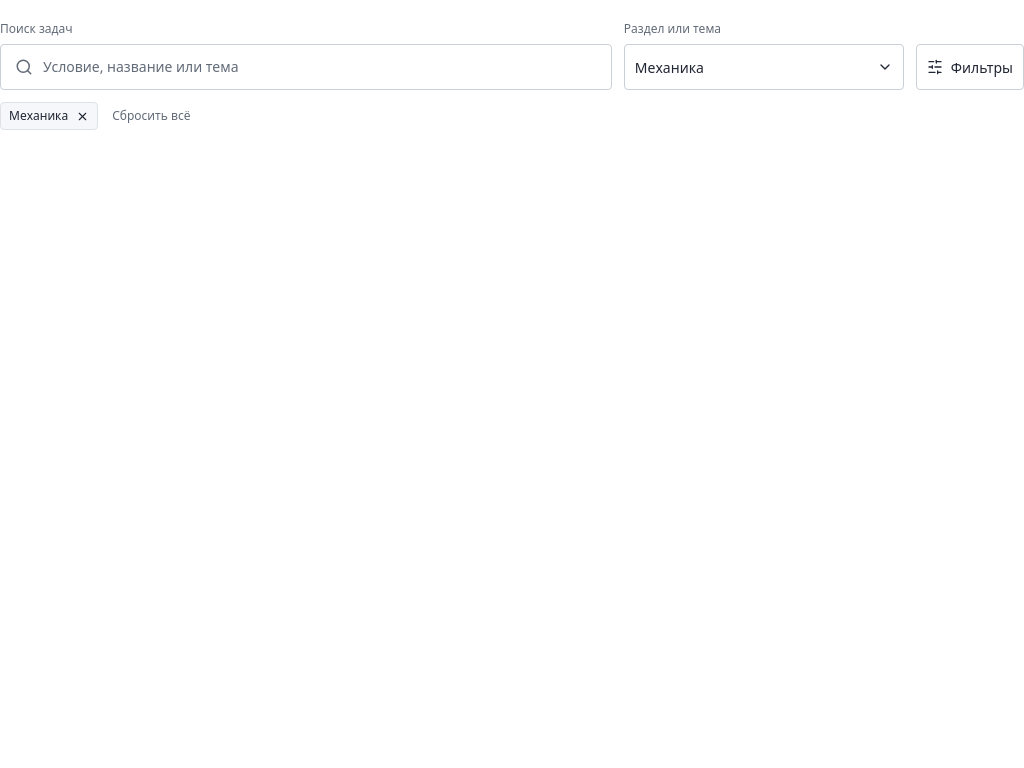
Test: applies extra filters together, while closing discards an uncommitted draft
Click the button "Фильтры" at (970, 67), box [916, 44, 1023, 90]
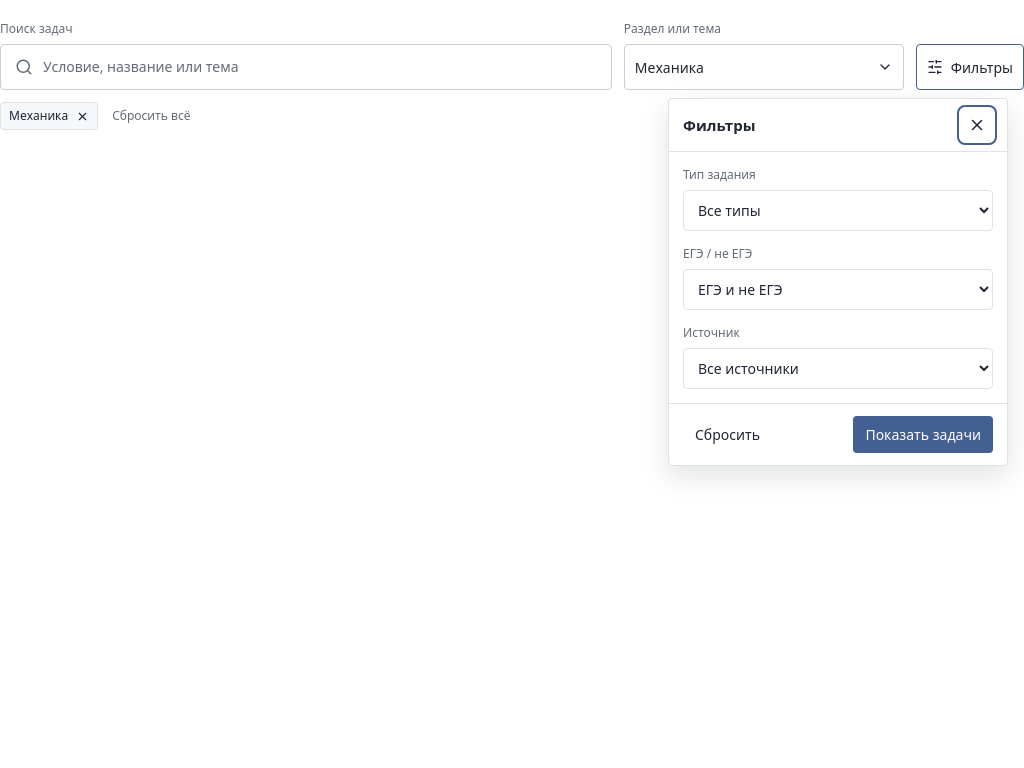
Select "ЕГЭ" in the dropdown labelled "ЕГЭ / не ЕГЭ" at (838, 290), box [683, 269, 993, 310]
Select "Школково" in the dropdown labelled "Источник" at (838, 368), box [683, 348, 993, 389]
Click the button "Показать задачи" at (923, 434), box [853, 416, 993, 453]
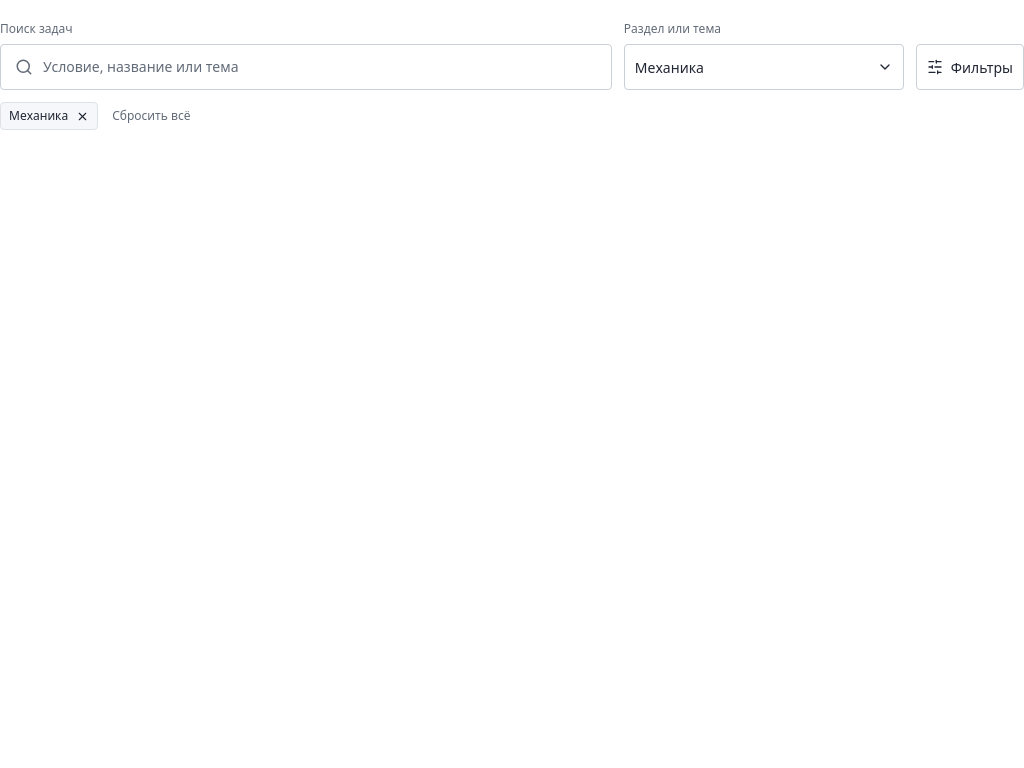
Click the button "Фильтры" at (970, 67), box [916, 44, 1023, 90]
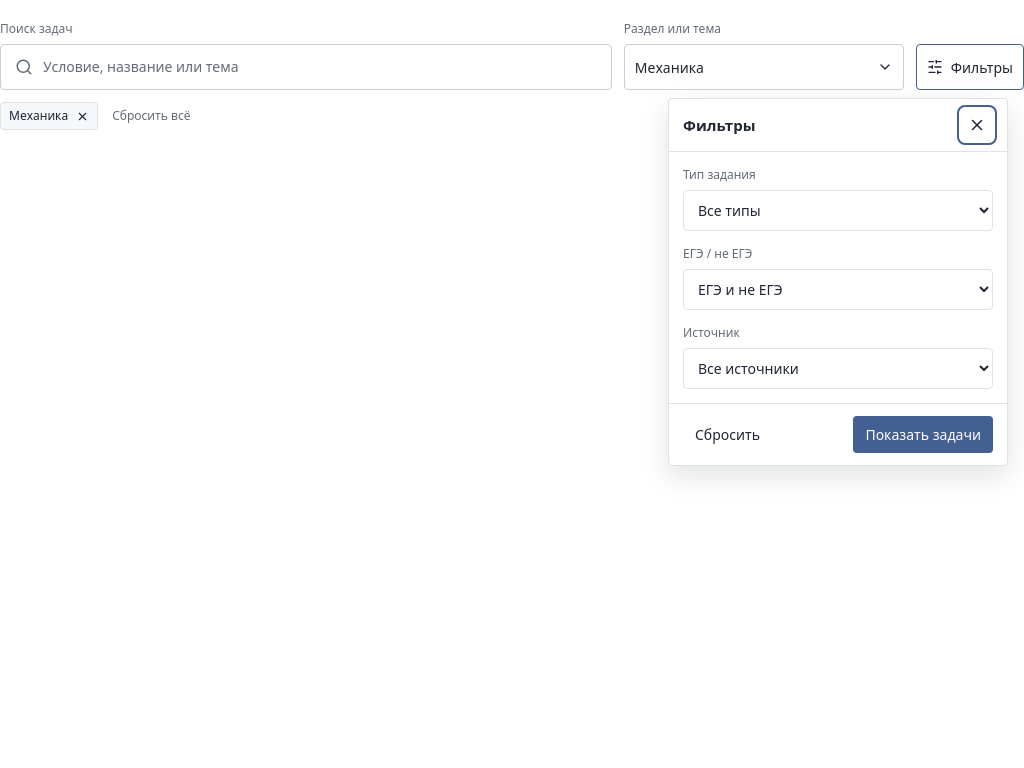
Select "Школково" in the dropdown labelled "Источник" at (838, 368), box [683, 348, 993, 389]
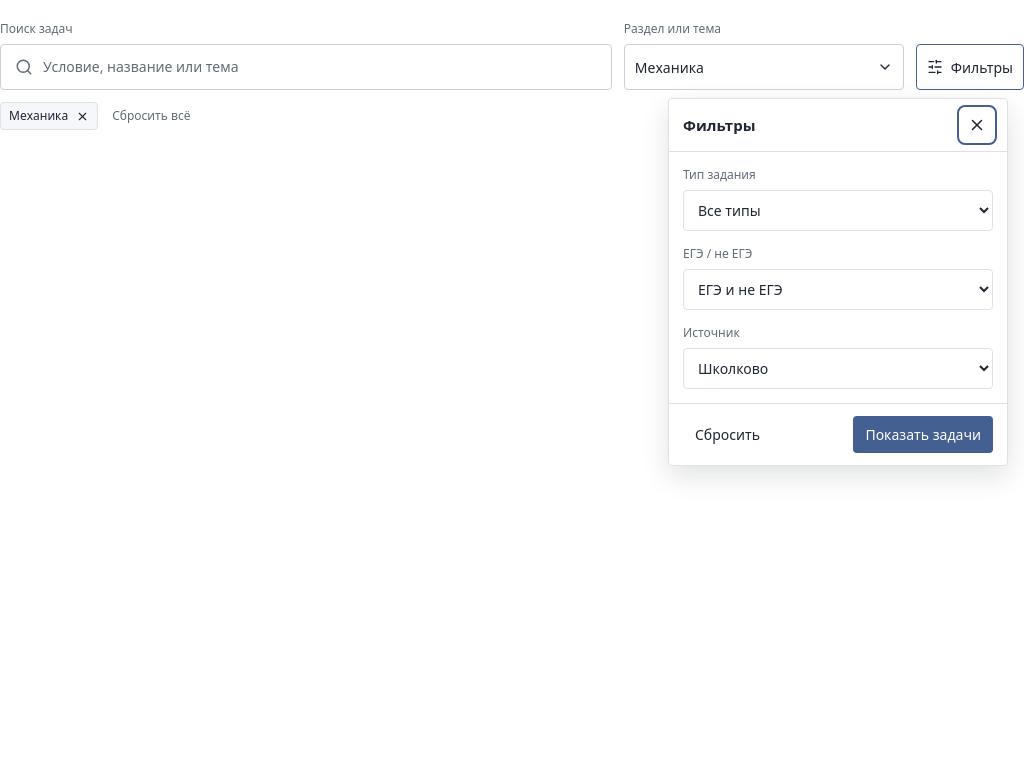
Click the button named "Закрыть фильтр" at (977, 125), box [961, 109, 993, 141]
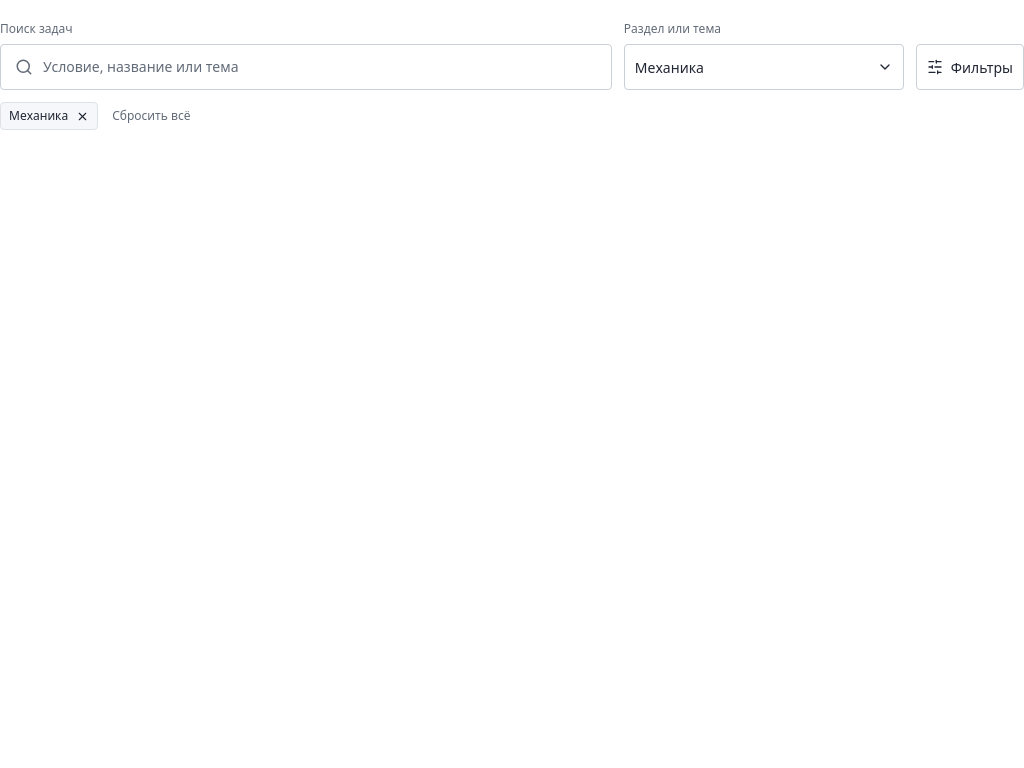
Click the button "Фильтры" at (970, 67), box [916, 44, 1023, 90]
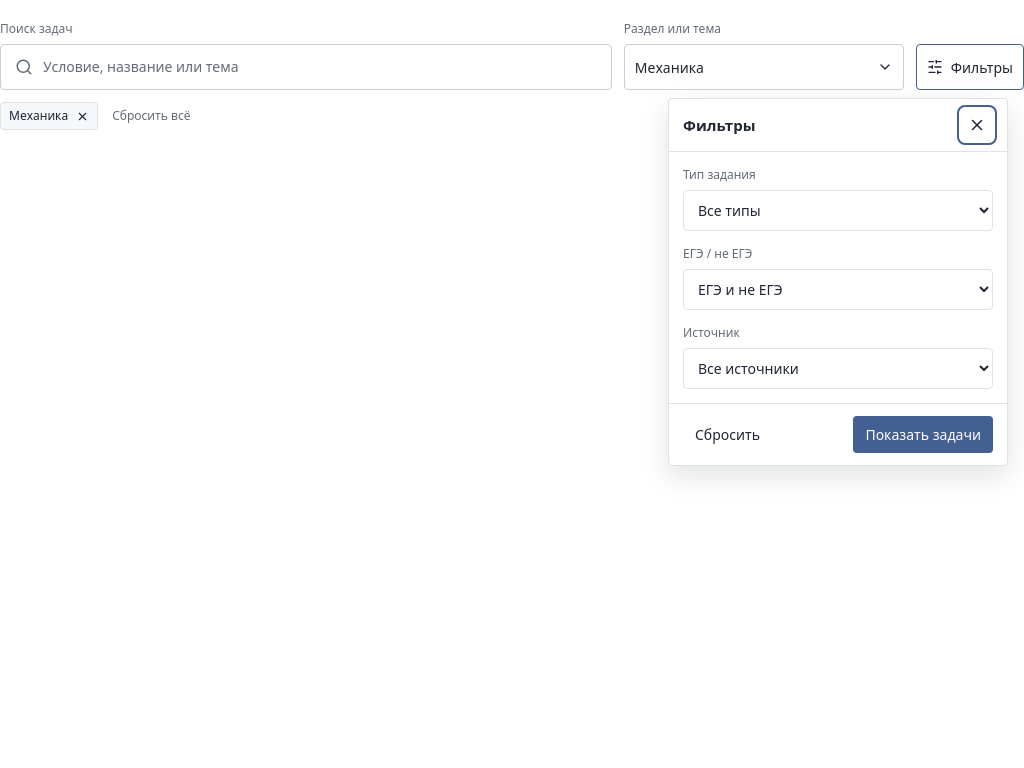
Result: the dropdown labelled "Источник" shows "Все источники" at [683, 348, 993, 389]
